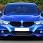car: (1, 2, 43, 38), (1, 19, 43, 38), (23, 26, 43, 38), (1, 25, 15, 40), (31, 25, 43, 40)
